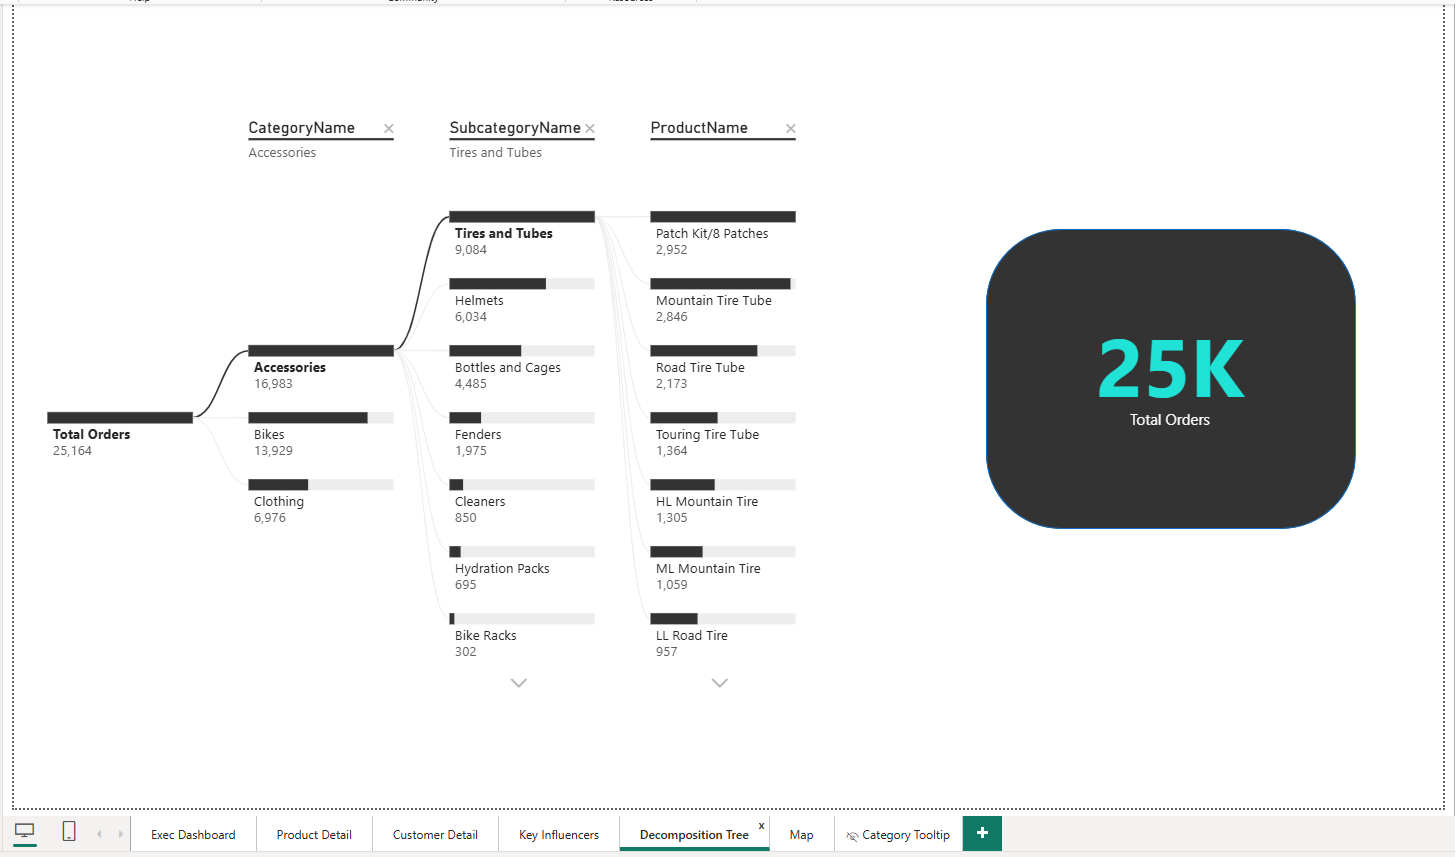

The page's visual inventory and layout, read from the dashboard file:
{"tool":"powerbi","page":{"name":"Decomposition Tree","canvas":[1280,720],"ordinal":4},"visuals":[{"type":"decompositionTreeVisual","fields":{"Analyze":["Measure Table.Total Orders"],"ExplainBy":["Product Categories Lookup.CategoryName","Product Subcategories Lookup.SubcategoryName","Product Lookup.ProductName"]},"box":[0,85.1,773.7,549],"z":0},{"type":"shape","box":[870.2,201.5,331.3,268.7],"z":1000,"group":"g1"},{"type":"card","fields":{"Values":["Measure Table.Total Orders"]},"box":[869.6,220.2,331.3,214.9],"z":2000,"group":"g1"},{"type":"group","id":"g1","title":"Group 1","box":[869.6,201.5,332.2,268.7],"z":2001}]}

Visuals, with their boxes on the page's 1280x720 design canvas (x1, y1, x2, y2). These are canvas units, not pixel positions in the 1456x857 screenshot, which may show the page scaled, cropped or inside an application window:
decompositionTreeVisual - Measure Table.Total Orders x Product Categories Lookup.CategoryName: Rect(0, 85, 774, 634)
shape: Rect(870, 202, 1202, 470)
card - Measure Table.Total Orders: Rect(870, 220, 1201, 435)
"Group 1" group: Rect(870, 202, 1202, 470)
